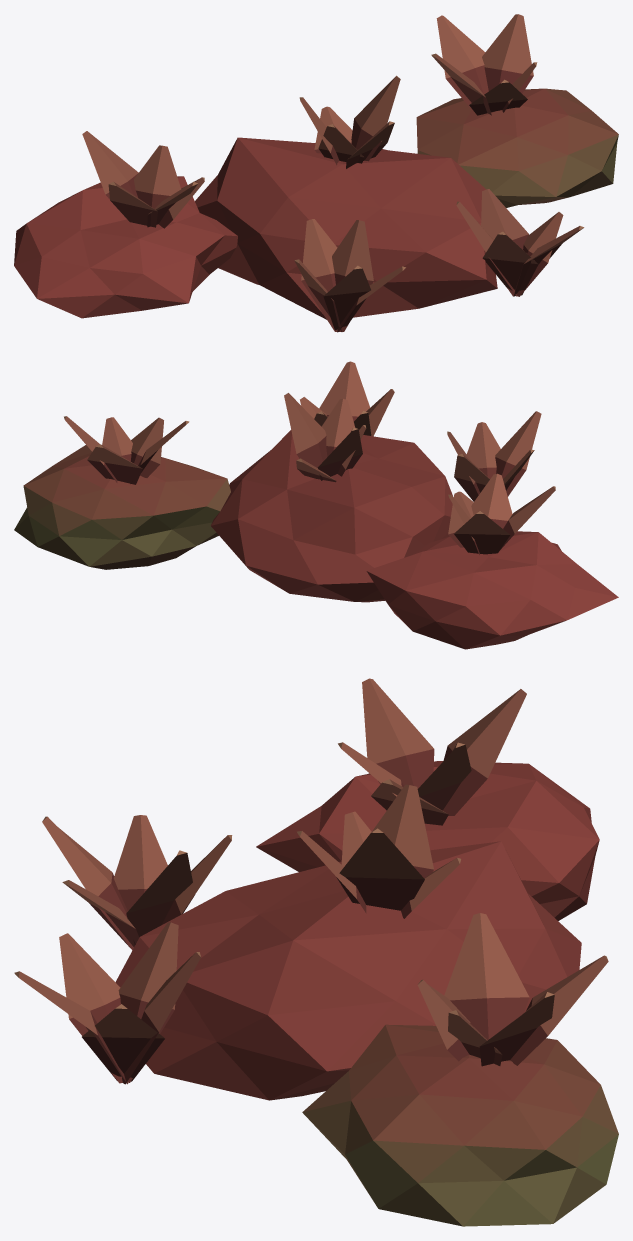
The model's file is HeathTufts_leaf.glb.
3 views of the same model, one above another, from view 1: azimuth 30°, elevation 25°; view 2: azimuth 150°, elevation 25°; view 3: azimuth 270°, elevation 25° (orthographic). The views are drawn at different scales.
Parts seen in each view (by area): view 1: HeathTufts_leaf; view 2: HeathTufts_leaf; view 3: HeathTufts_leaf.
Part boxes in pixels (left/top/right/bottom): HeathTufts_leaf: left=14, top=14, right=618, bottom=332; HeathTufts_leaf: left=14, top=361, right=618, bottom=649; HeathTufts_leaf: left=14, top=678, right=618, bottom=1226.
Bounding box in the file's own units: 4.66 × 1.23 × 2.81.
